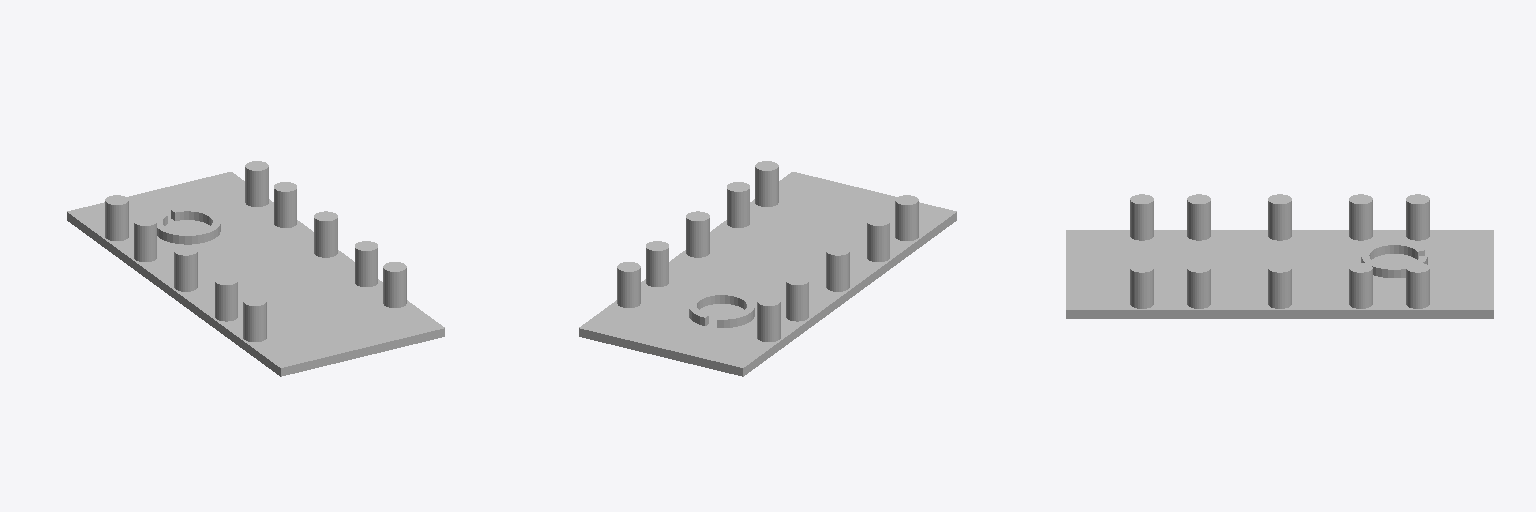
The model's file is vestibulo.obj.
The picture shows the model from 3 angles: view 1: azimuth 30°, elevation 25°; view 2: azimuth 150°, elevation 25°; view 3: azimuth 270°, elevation 25°; orthographic projection.
Visible parts, largest first — view 1: Cube, Cylinder; view 2: Cube, Cylinder; view 3: Cube, Cylinder.
Part boxes in pixels (x1,y1,x2,y2): Cube: (67, 161, 444, 376); Cylinder: (156, 208, 220, 244); Cube: (579, 161, 956, 376); Cylinder: (689, 292, 754, 327); Cube: (1066, 194, 1493, 318); Cylinder: (1361, 242, 1427, 277).
Bounding box in the file's own units: 40 × 10.42 × 90.